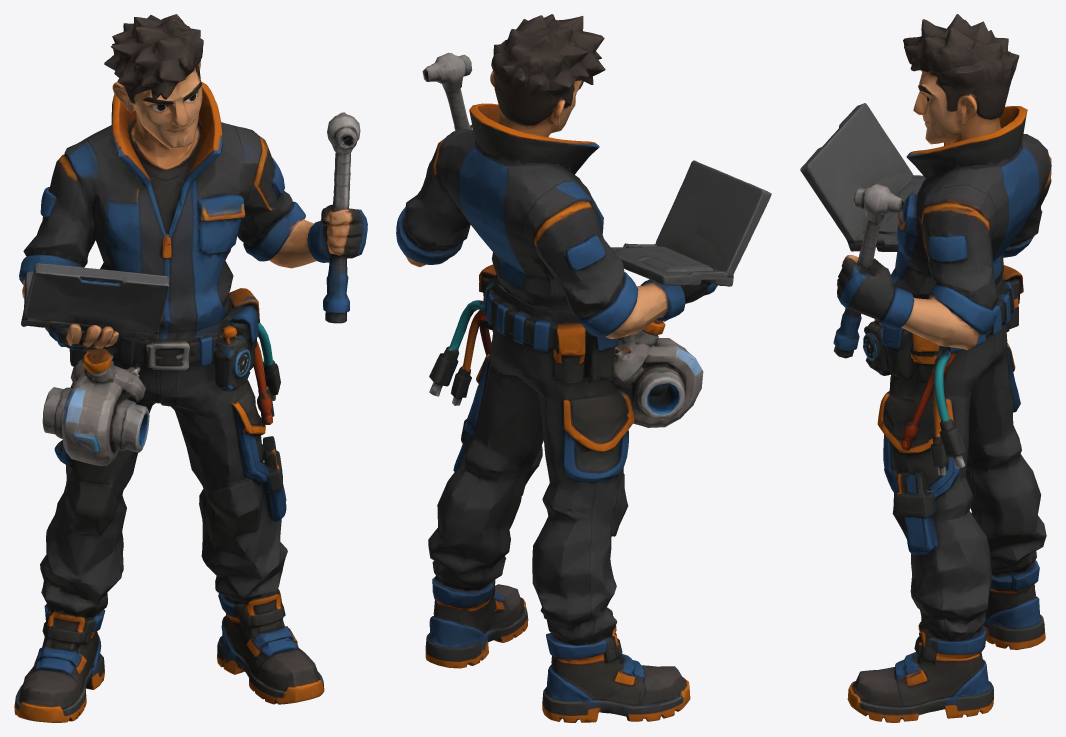
File: tuning_station_character_1k_real.glb
3 views of the same model, side by side, from view 1: azimuth 30°, elevation 25°; view 2: azimuth 150°, elevation 25°; view 3: azimuth 270°, elevation 25° (orthographic). The views are drawn at different scales.
Parts seen in each view (by area): view 1: tripo_node_32c8afed-6345-4fe3-b788-8782903efaa6; view 2: tripo_node_32c8afed-6345-4fe3-b788-8782903efaa6; view 3: tripo_node_32c8afed-6345-4fe3-b788-8782903efaa6.
Boxes of the visible parts, x1=… form: tripo_node_32c8afed-6345-4fe3-b788-8782903efaa6: x1=14, y1=14, x2=367, y2=722; tripo_node_32c8afed-6345-4fe3-b788-8782903efaa6: x1=396, y1=14, x2=771, y2=722; tripo_node_32c8afed-6345-4fe3-b788-8782903efaa6: x1=800, y1=14, x2=1051, y2=722.
Size of the model in its own units: 0.5235 by 1 by 0.3548.
Materials: 1 (1 with a texture image).
